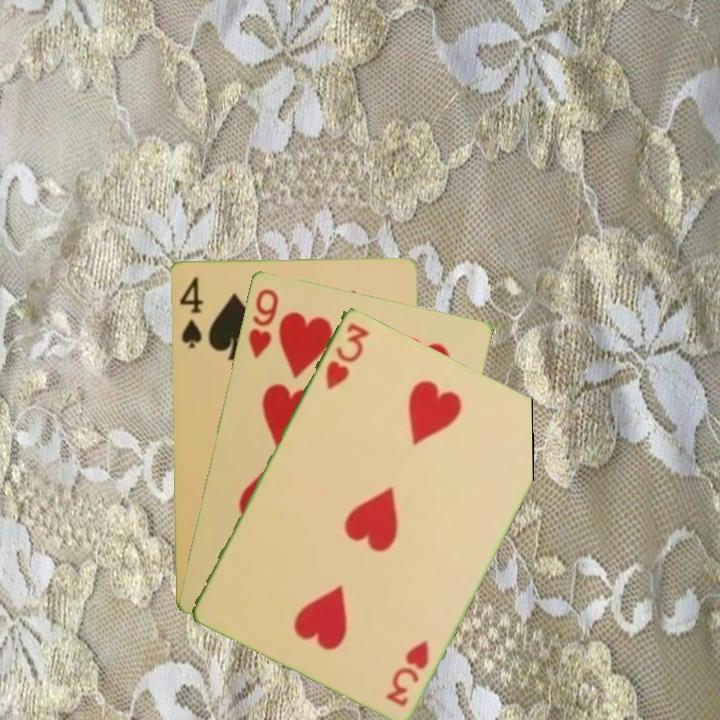3h: (322, 319, 372, 393), (382, 635, 432, 709)
4s: (176, 272, 206, 351)
9h: (244, 284, 281, 360)
